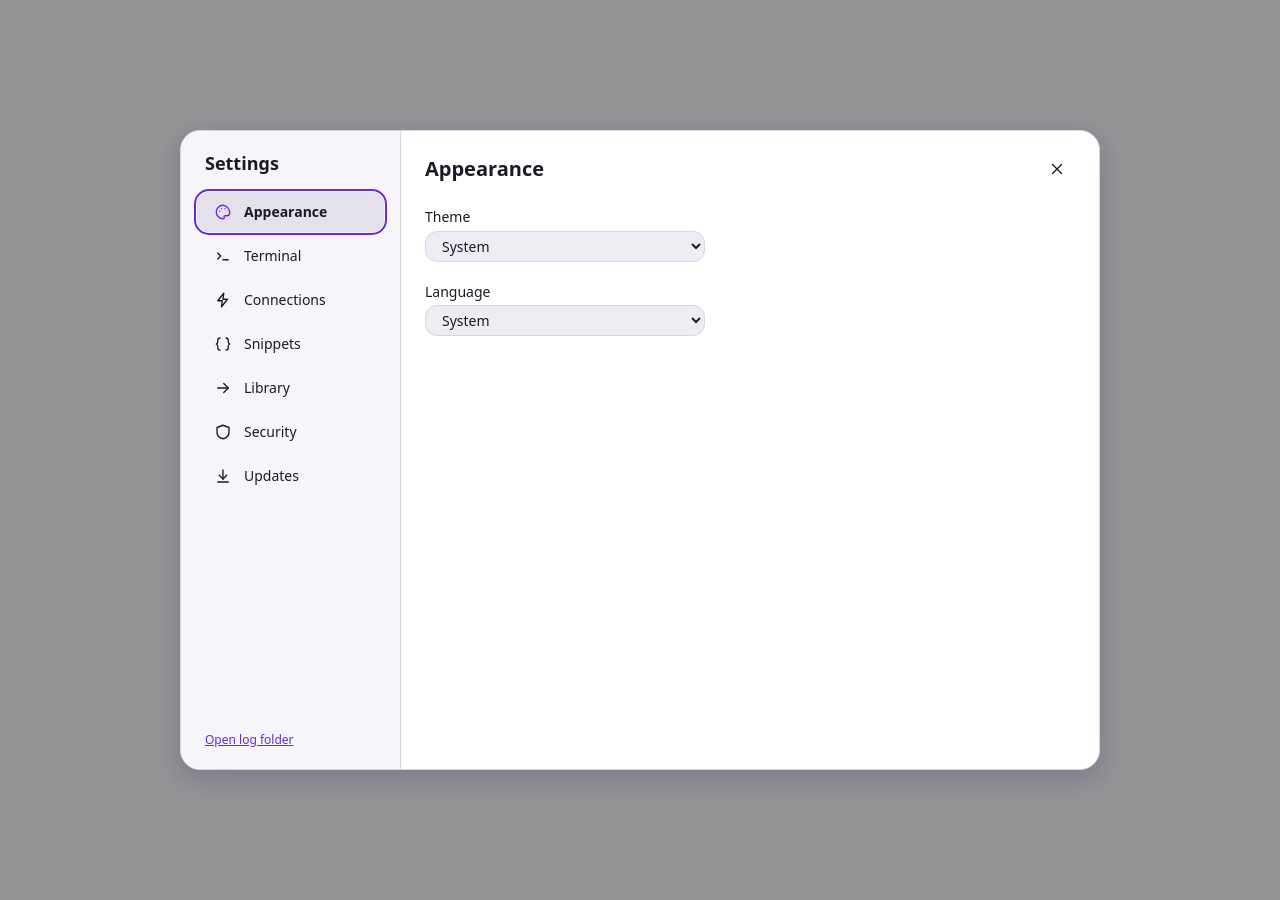
it: Connections fields save default user, port, timeout and keepalive
Click the button "Connections" at x=290, y=300, box 197,280 -> 384,320
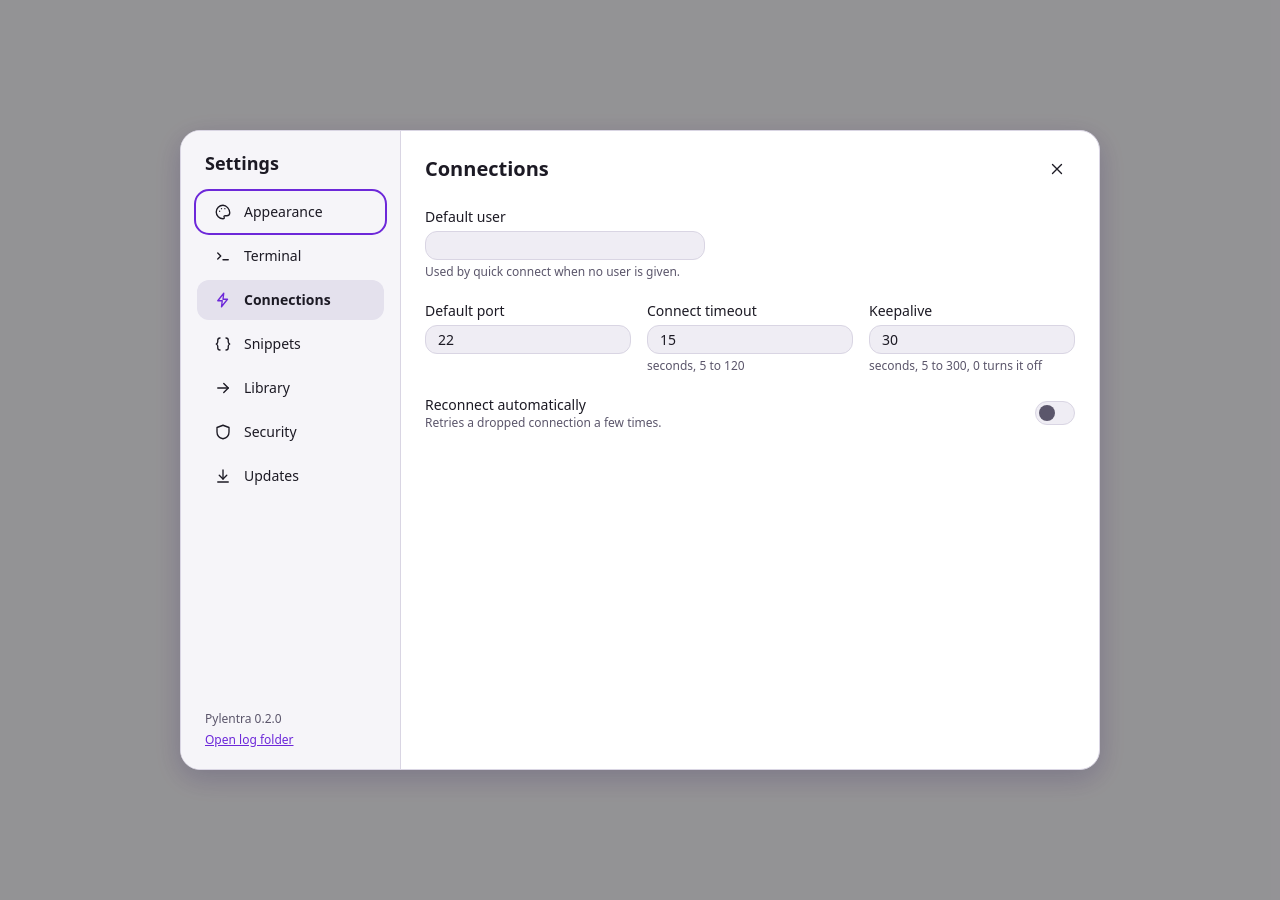
Type " root " into the field labelled "Default user" at x=565, y=245, box 425,231 -> 705,260
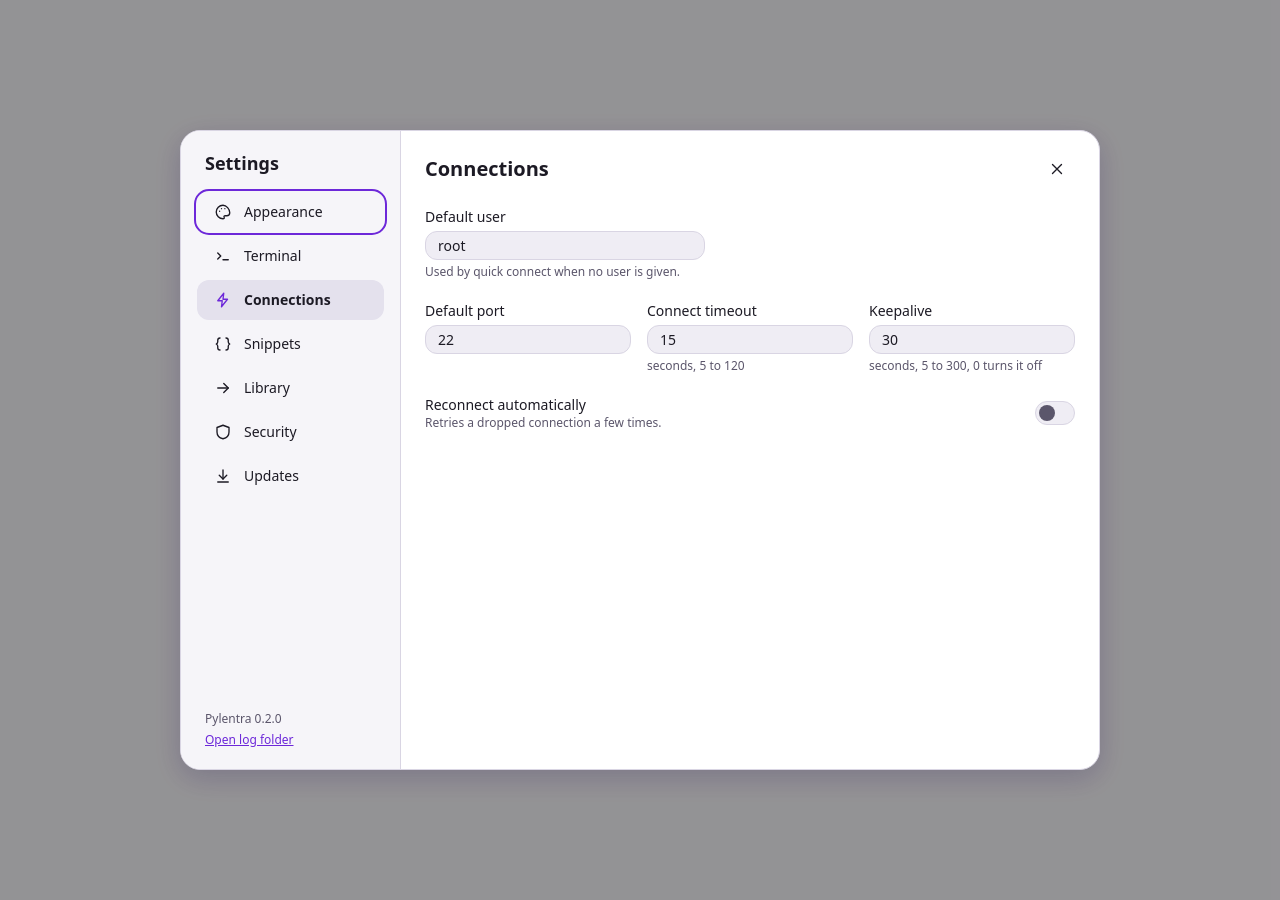
Replace the text in the number field labelled "Default port" with "2200" at x=528, y=339, box 425,325 -> 631,354
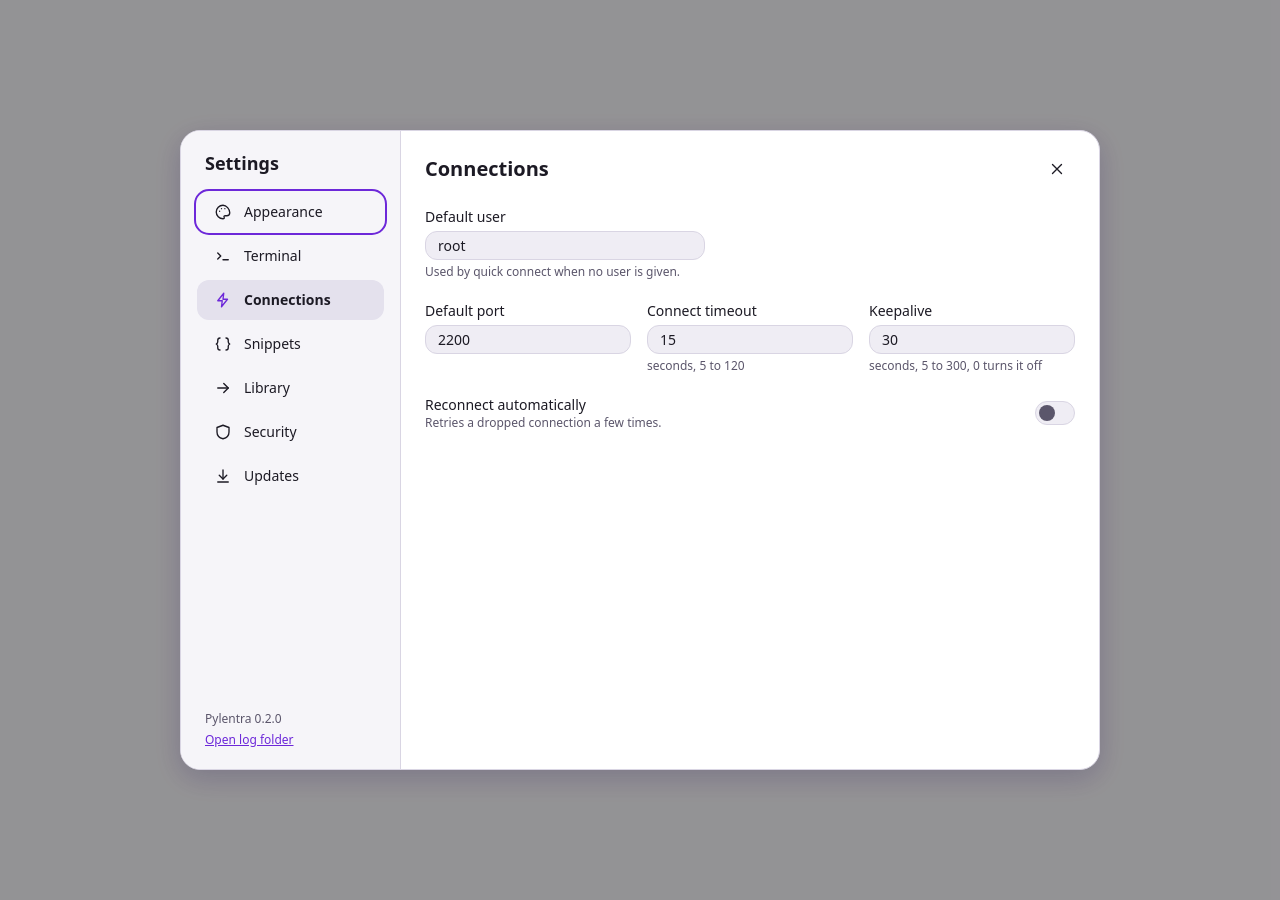
Replace the text in the number field labelled "Connect timeout" with "30" at x=750, y=339, box 647,325 -> 853,354
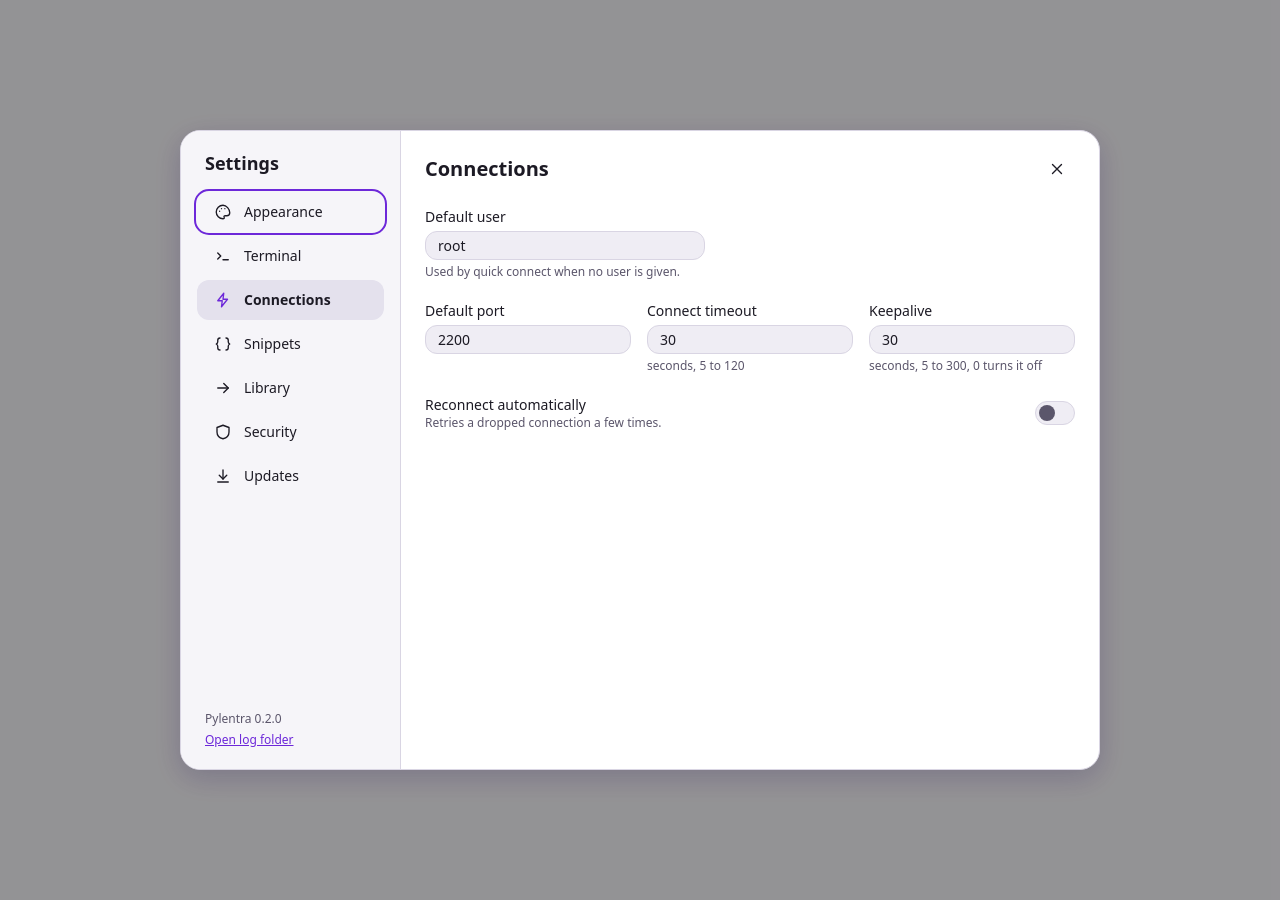
Replace the text in the number field labelled "Keepalive" with "0" at x=972, y=339, box 869,325 -> 1075,354
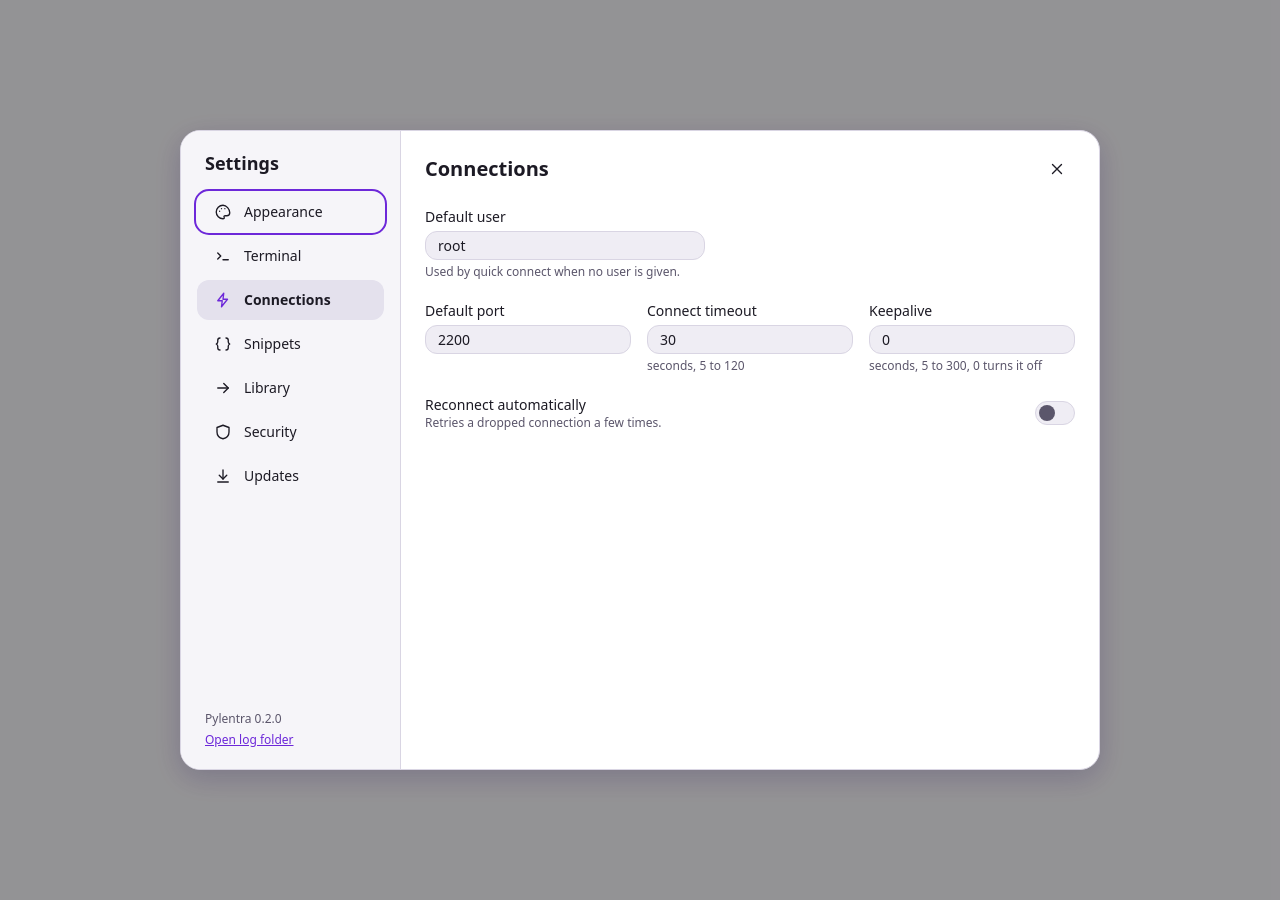
Replace the text in the number field labelled "Keepalive" with "3" at x=972, y=339, box 869,325 -> 1075,354
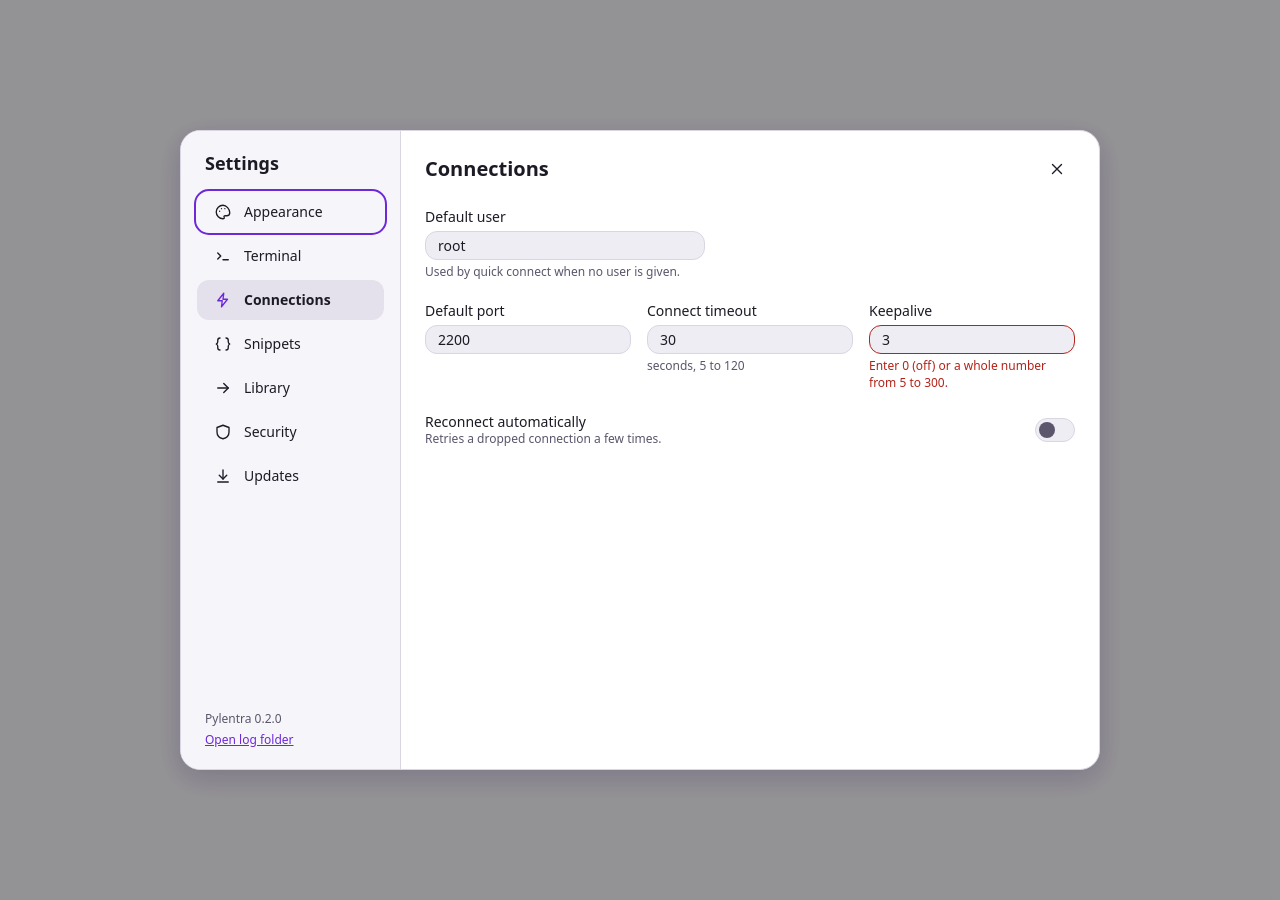
Expected: the text "Enter 0 (off) or a whole number from 5 to 300." is shown, 869,358 -> 1075,392
